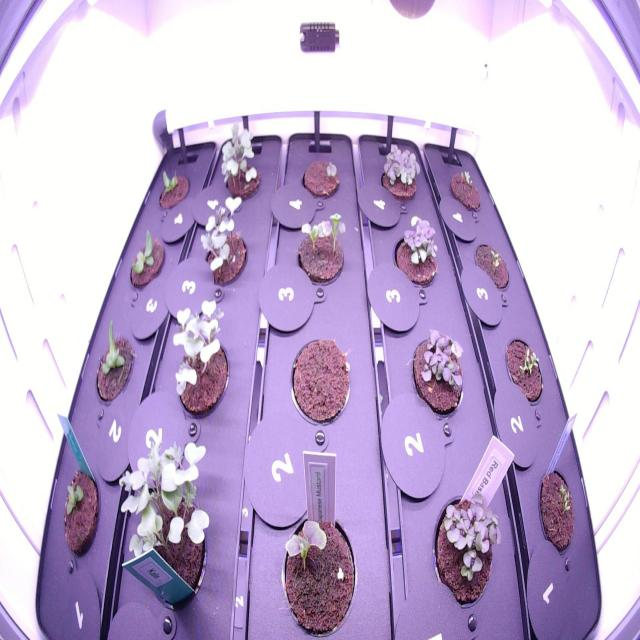germination: (277, 499, 361, 640), (532, 455, 580, 566), (292, 207, 352, 292), (496, 328, 551, 413), (441, 160, 488, 223), (467, 236, 515, 296), (295, 152, 346, 206)
pod: (282, 329, 357, 434)
young: (55, 458, 104, 562), (90, 315, 138, 410), (124, 222, 168, 303), (154, 158, 196, 222)
